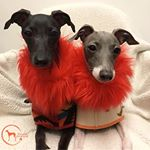puppy: (1, 4, 78, 69), (74, 21, 143, 88)
